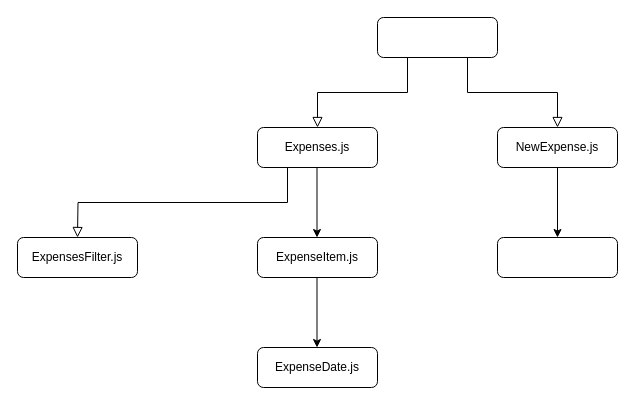
The diagram is 635 pixels wide and 405 high, and some of its shapes have lost their labels. Each missing label, with the box of its shape:
App.js: (376, 16, 498, 58)
ExpenseForm.js: (496, 236, 618, 278)
